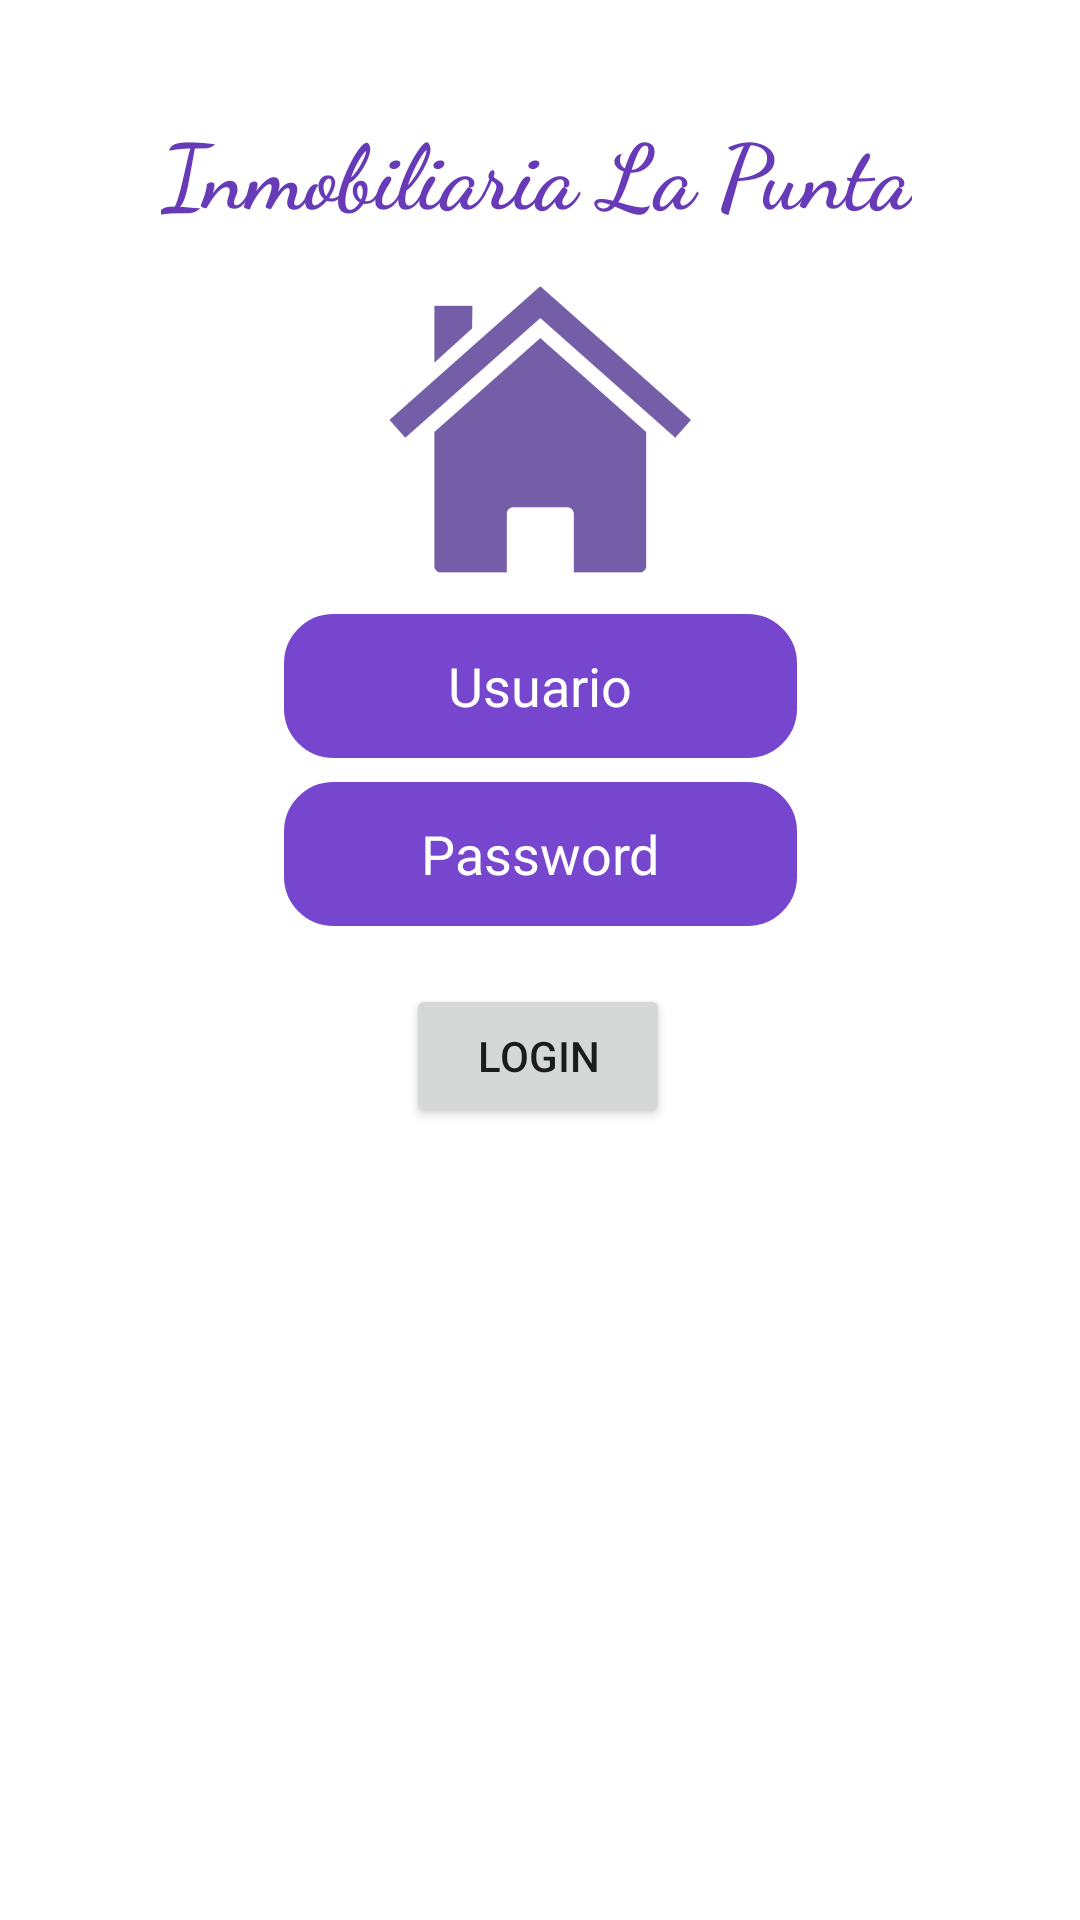

Icons on this 1080*1920 Android screen, each with its box as bbox=(x1, y1, x2, y2):
casa: bbox=(389, 286, 691, 573)
